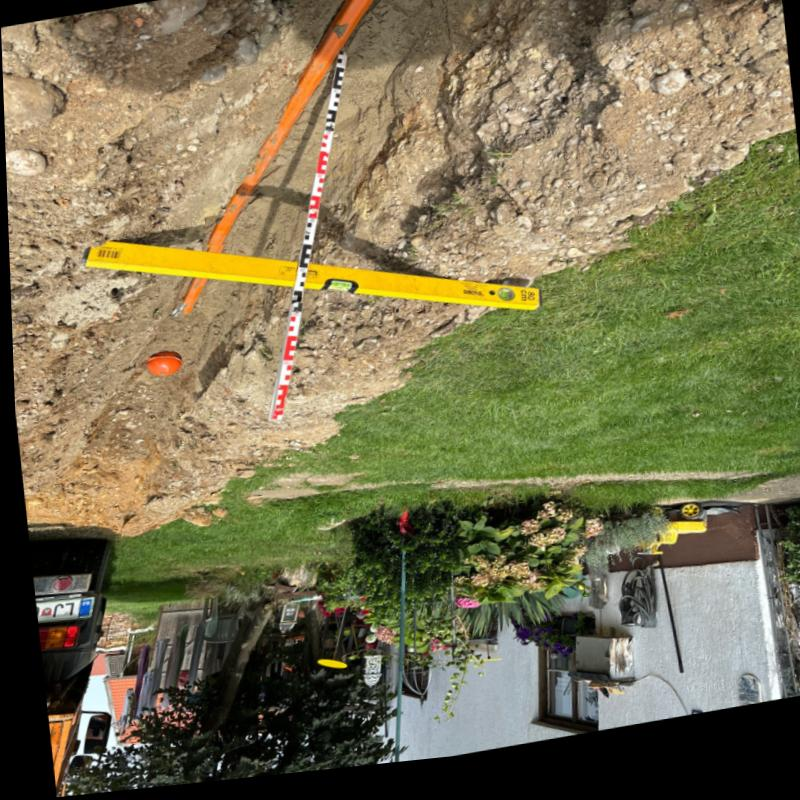Kugelmarker: (141, 353, 179, 379)
Orang-Speednetrohrchen: (205, 0, 377, 251)
